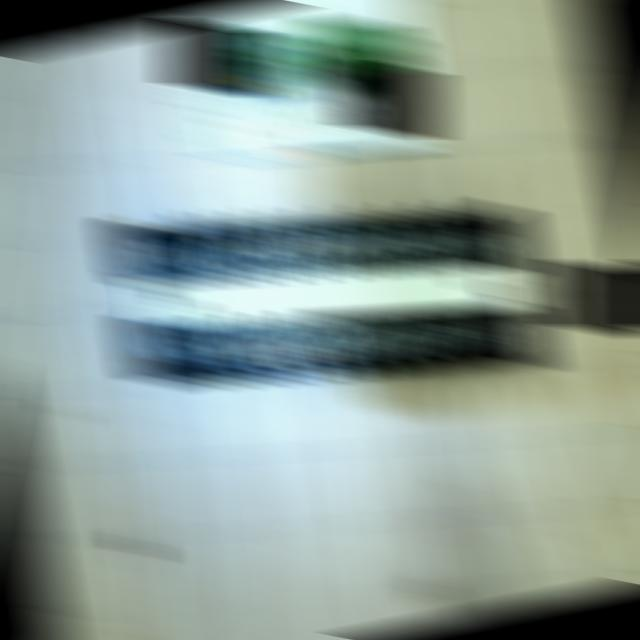Flathead_Block: (111, 203, 547, 387)
Terminal_1: (304, 16, 408, 75), (201, 27, 307, 83)
